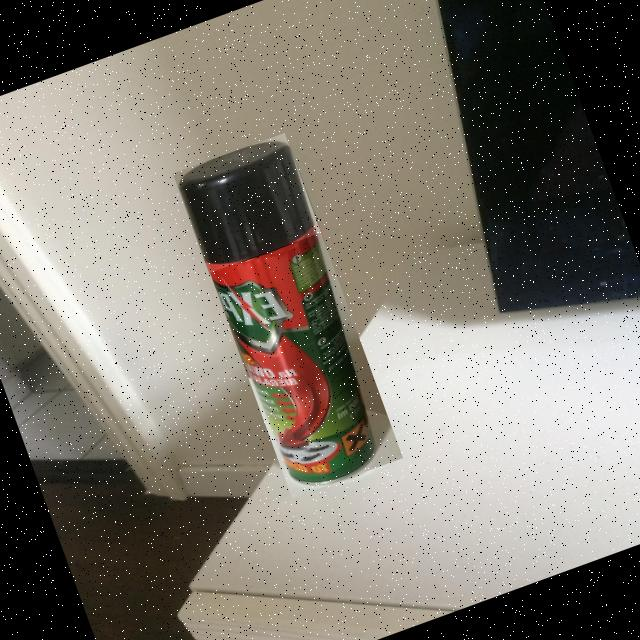Aerosol: (179, 142, 377, 486)
Plastic lid: (180, 143, 315, 264)
